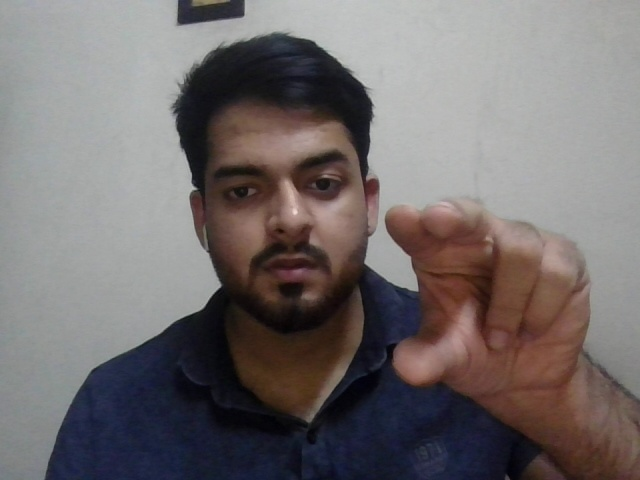no: (384, 192, 593, 395)
